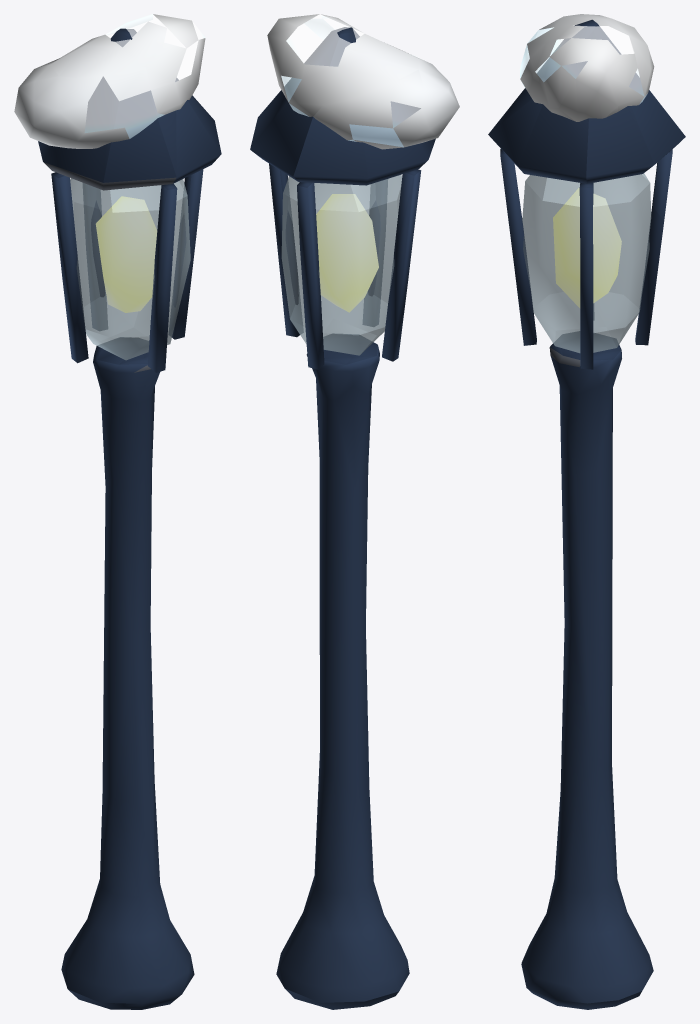
The model's file is frost_lantern_lod2.glb.
3 renders of one model, left to right at view 1: azimuth 30°, elevation 25°; view 2: azimuth 150°, elevation 25°; view 3: azimuth 270°, elevation 25°, orthographic.
Parts seen in each view (by area): view 1: frost_lantern.001, flame.001; view 2: frost_lantern.001, flame.001; view 3: frost_lantern.001, flame.001.
Boxes of the visible parts, left/top/right/bottom form: frost_lantern.001: left=14, top=14, right=221, bottom=1009; flame.001: left=96, top=196, right=157, bottom=312; frost_lantern.001: left=250, top=14, right=459, bottom=1009; flame.001: left=316, top=194, right=378, bottom=312; frost_lantern.001: left=488, top=14, right=685, bottom=1009; flame.001: left=553, top=188, right=621, bottom=307.
Size of the model in its own units: 4.56 by 22.02 by 4.06.
